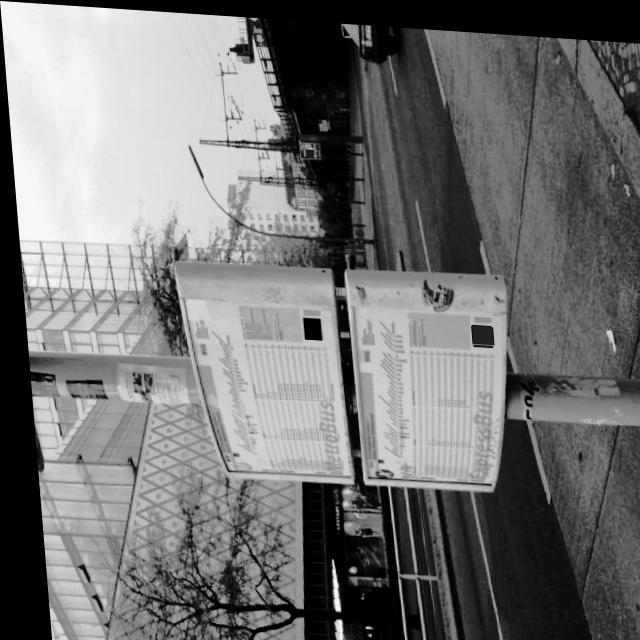qr_code: (467, 318, 488, 340), (298, 313, 317, 336)
